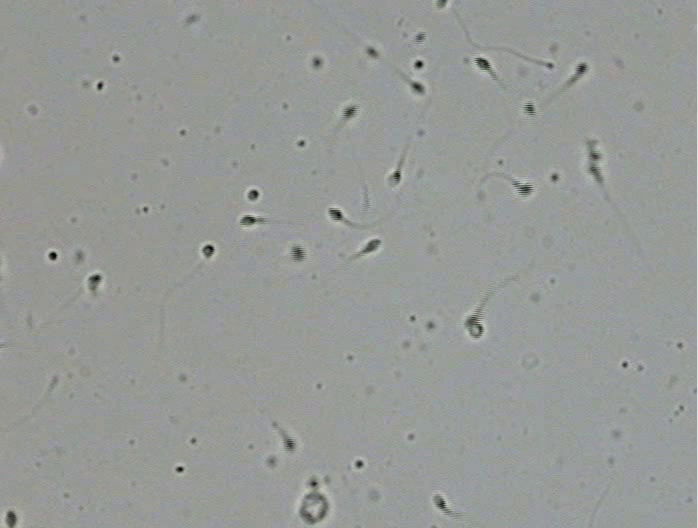Impurity: (298, 478, 329, 525)
S: (464, 314, 484, 339), (290, 244, 306, 263), (515, 180, 534, 196), (363, 239, 382, 254), (87, 274, 102, 292), (281, 436, 296, 452), (341, 105, 357, 120), (474, 57, 491, 71), (387, 170, 401, 186), (4, 511, 17, 528), (433, 493, 446, 510), (240, 215, 258, 227), (328, 208, 343, 222), (587, 147, 601, 162), (574, 62, 588, 77), (410, 81, 424, 94), (202, 245, 215, 258), (588, 164, 601, 177), (524, 102, 536, 116), (248, 189, 259, 201), (366, 46, 377, 58), (414, 32, 426, 43), (312, 57, 322, 68), (413, 60, 423, 69), (436, 1, 447, 9)
